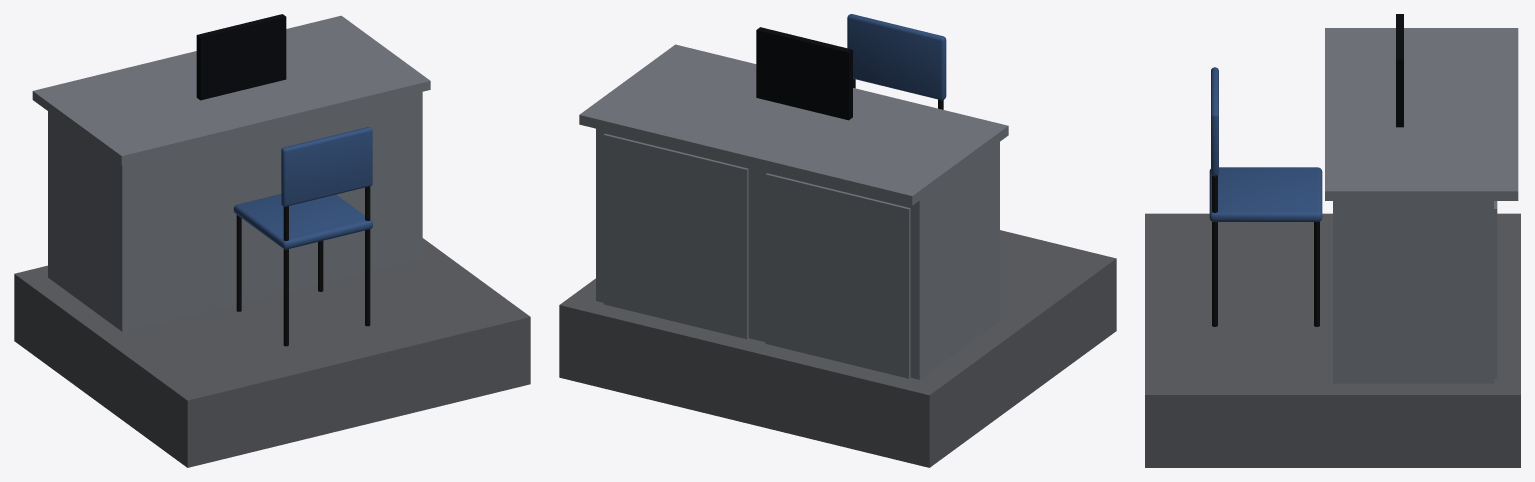
File: justice.prison.officer_podium.glb
3 views of the same model, side by side, from view 1: azimuth 30°, elevation 25°; view 2: azimuth 150°, elevation 25°; view 3: azimuth 270°, elevation 25° (orthographic). The views are drawn at different scales.
Visible parts, largest first — view 1: main__laminate_grey, main__plastic_grey, main__fabric_blue, main__screen, main__plastic_black; view 2: main__laminate_grey, main__plastic_grey, main__screen, main__fabric_blue; view 3: main__plastic_grey, main__laminate_grey, main__fabric_blue, main__plastic_black, main__screen.
Part boxes in pixels (bbox=[...]): main__laminate_grey: bbox=[32, 15, 430, 331]; main__plastic_grey: bbox=[14, 238, 530, 467]; main__fabric_blue: bbox=[233, 127, 372, 249]; main__screen: bbox=[196, 14, 286, 100]; main__plastic_black: bbox=[236, 186, 370, 346]; main__laminate_grey: bbox=[579, 44, 1008, 379]; main__plastic_grey: bbox=[559, 230, 1116, 467]; main__screen: bbox=[756, 27, 852, 120]; main__fabric_blue: bbox=[847, 14, 946, 100]; main__plastic_grey: bbox=[1145, 213, 1520, 467]; main__laminate_grey: bbox=[1325, 28, 1518, 383]; main__fabric_blue: bbox=[1209, 67, 1322, 221]; main__plastic_black: bbox=[1212, 175, 1319, 326]; main__screen: bbox=[1396, 14, 1403, 127].
Bounding box in the file's own units: 1.6 × 1.4 × 1.4.
